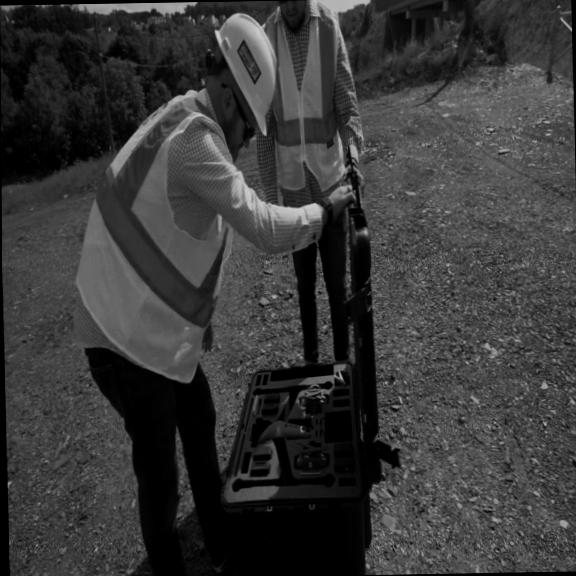safety_vest: (70, 88, 236, 382), (257, 0, 346, 191)
